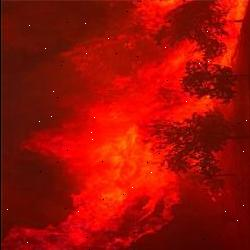fire: (28, 0, 241, 202)
